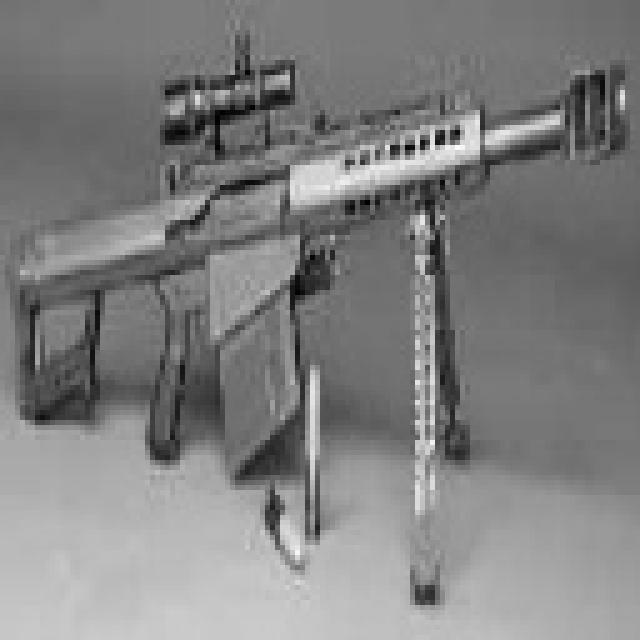Rifle: (6, 120, 631, 498)
